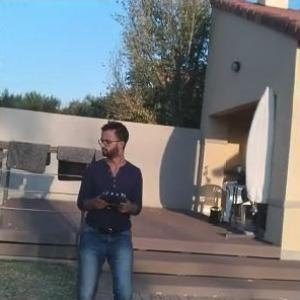follow: (70, 117, 146, 299)
